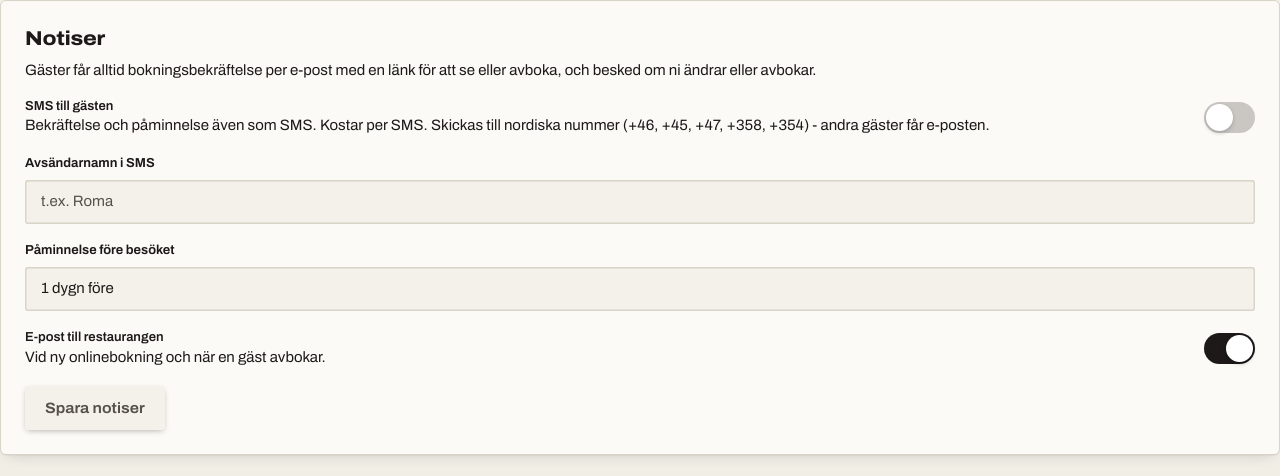
Test: NotificationsCard › saves SMS on with a sender name and a new reminder time
Click the switch named "SMS till gästen" in the row of "SMS till gästen" at (1230, 117), box [1204, 102, 1255, 133]
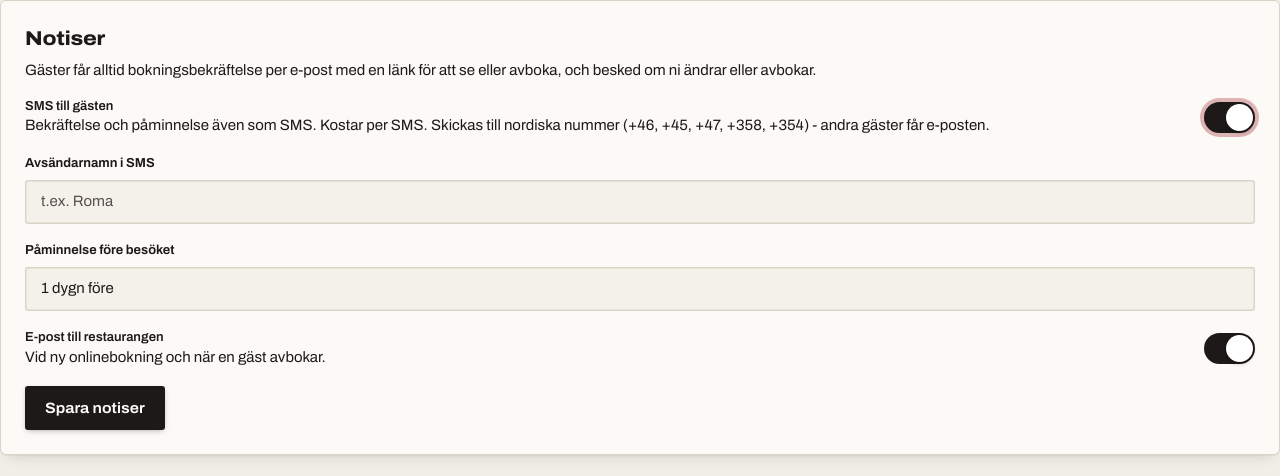
Type "Roma" into the field labelled "Avsändarnamn i SMS" at (640, 202), box [25, 180, 1255, 224]
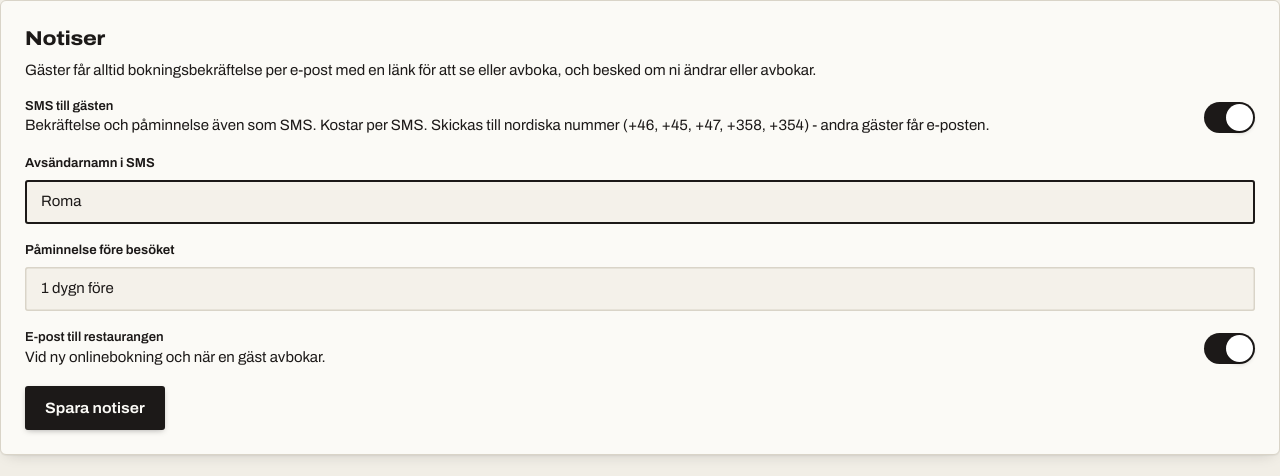
Select "2 timmar före" in the dropdown labelled "Påminnelse före besöket" at (640, 289), box [25, 267, 1255, 311]
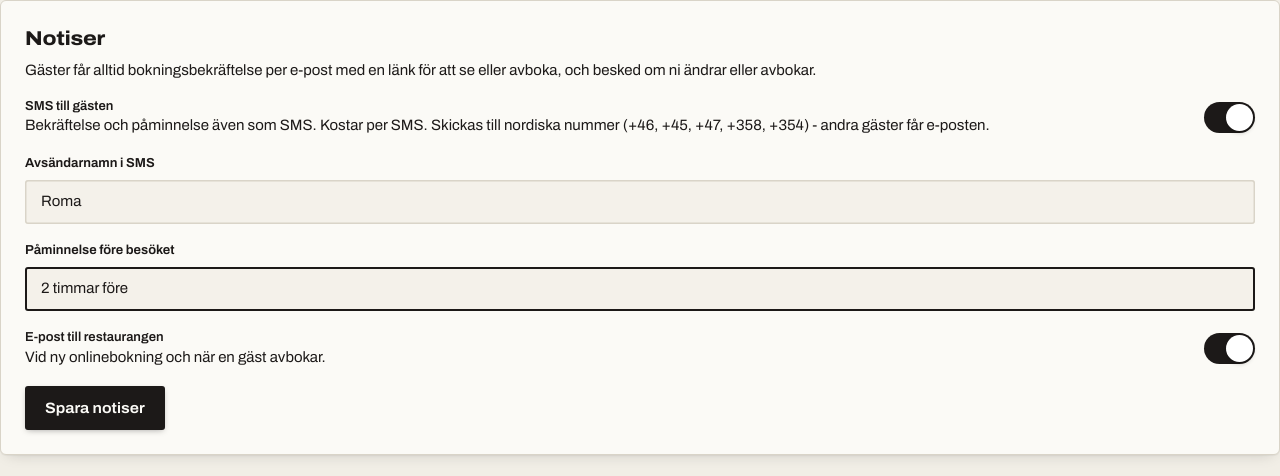
Click the button "Spara notiser" at (95, 408), box [25, 386, 165, 430]
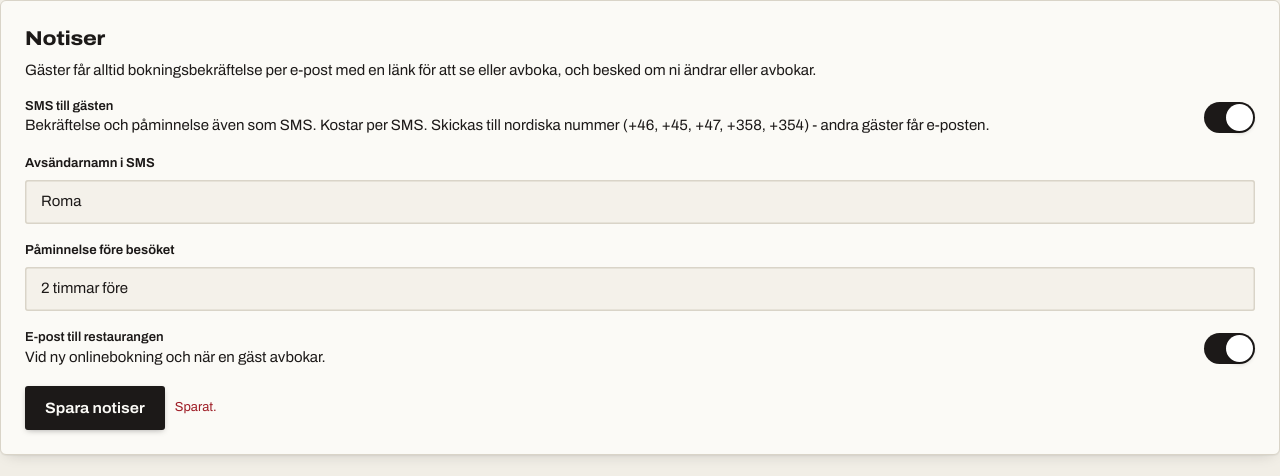
Expected: the text "Sparat." is shown, [175, 398, 217, 418]
